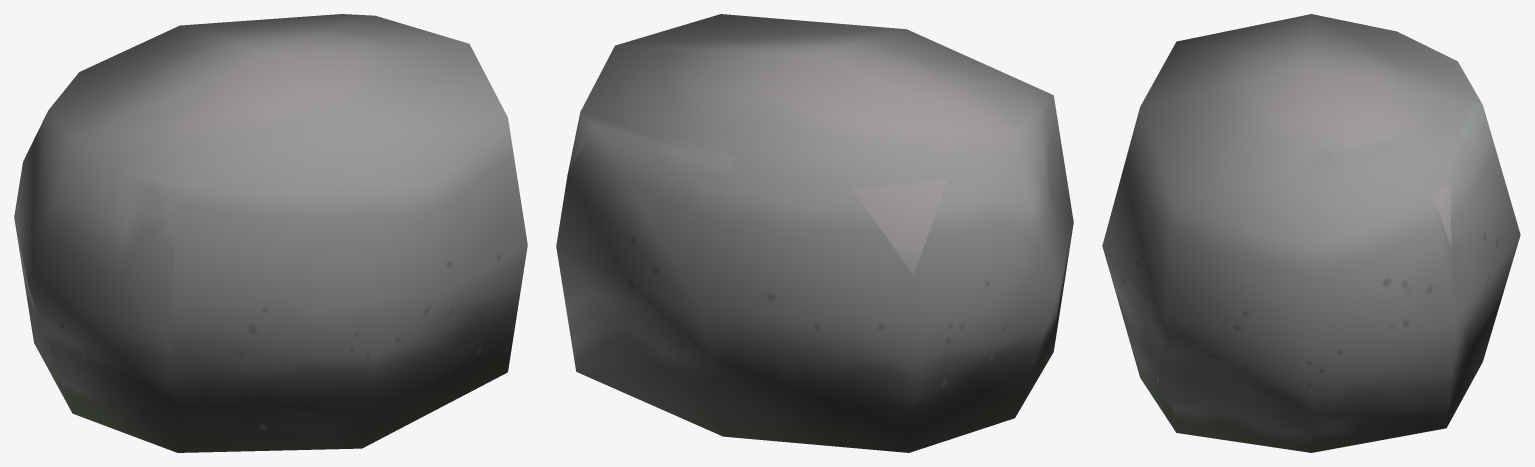
File: hand painted rock.fbx
The picture shows the model from 3 angles, left to right: view 1: azimuth 30°, elevation 25°; view 2: azimuth 150°, elevation 25°; view 3: azimuth 270°, elevation 25°; orthographic projection. The views are drawn at different scales.
Parts seen in each view (by area): view 1: Cube; view 2: Cube; view 3: Cube.
Part boxes in pixels (x1,y1,x2,y2): Cube: (14,14,527,452); Cube: (556,14,1073,452); Cube: (1102,14,1520,452).
Bounding box in the file's own units: 264 × 180 × 210.
